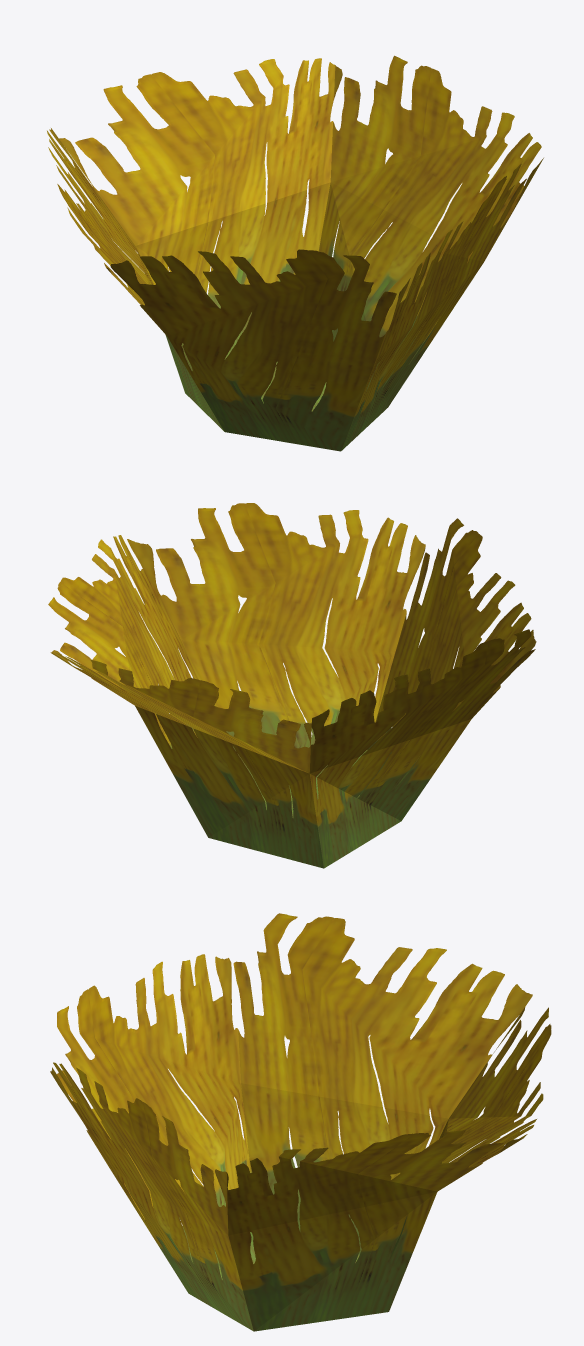
3 renders of one model, top to bottom at view 1: azimuth 30°, elevation 25°; view 2: azimuth 150°, elevation 25°; view 3: azimuth 270°, elevation 25°, orthographic. The views are drawn at different scales.
Visible parts, largest first — view 1: BT_3_F_1_2; view 2: BT_3_F_1_2; view 3: BT_3_F_1_2.
Part boxes in pixels (left/top/right/bottom): BT_3_F_1_2: left=47, top=55, right=543, bottom=451; BT_3_F_1_2: left=48, top=503, right=536, bottom=868; BT_3_F_1_2: left=50, top=913, right=551, bottom=1331.
Size of the model in its own units: 4.62 by 2.45 by 4.39.
Materials: 1 (1 with a texture image).
